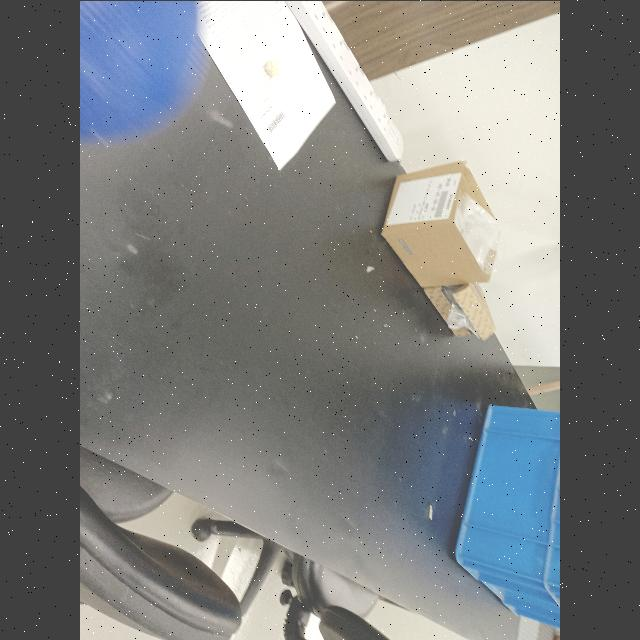B: (80, 0, 202, 146)
